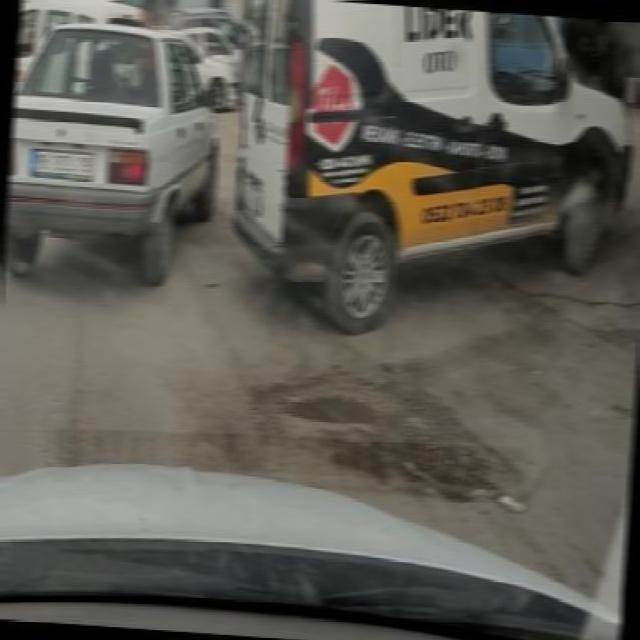Pothole: (244, 364, 544, 510)
